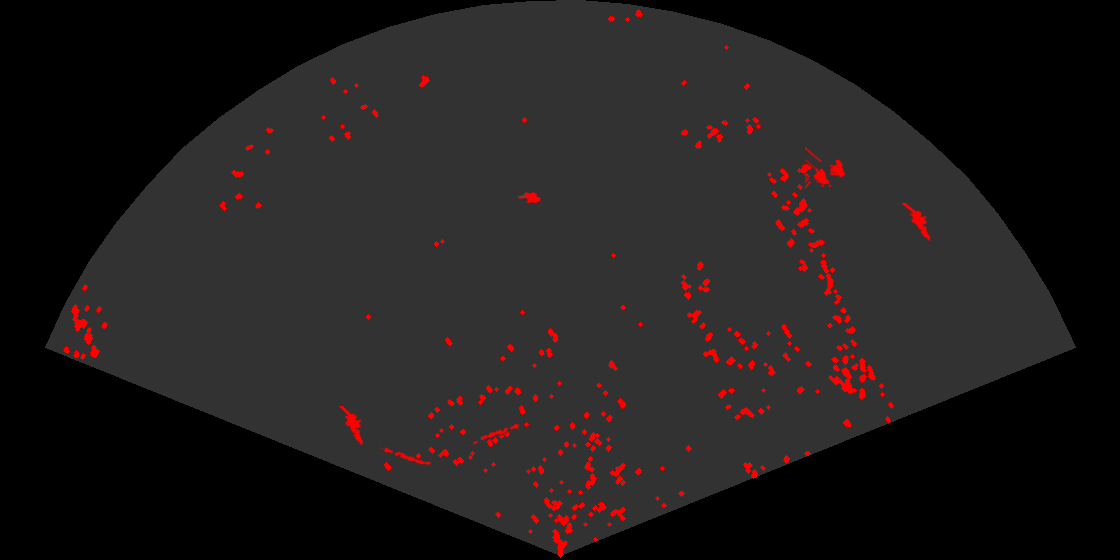AUV: (516, 190, 542, 205)
cage: (805, 147, 847, 191)
chain: (467, 422, 520, 446), (379, 445, 432, 467)
frogman: (902, 203, 934, 242), (337, 406, 366, 446)
